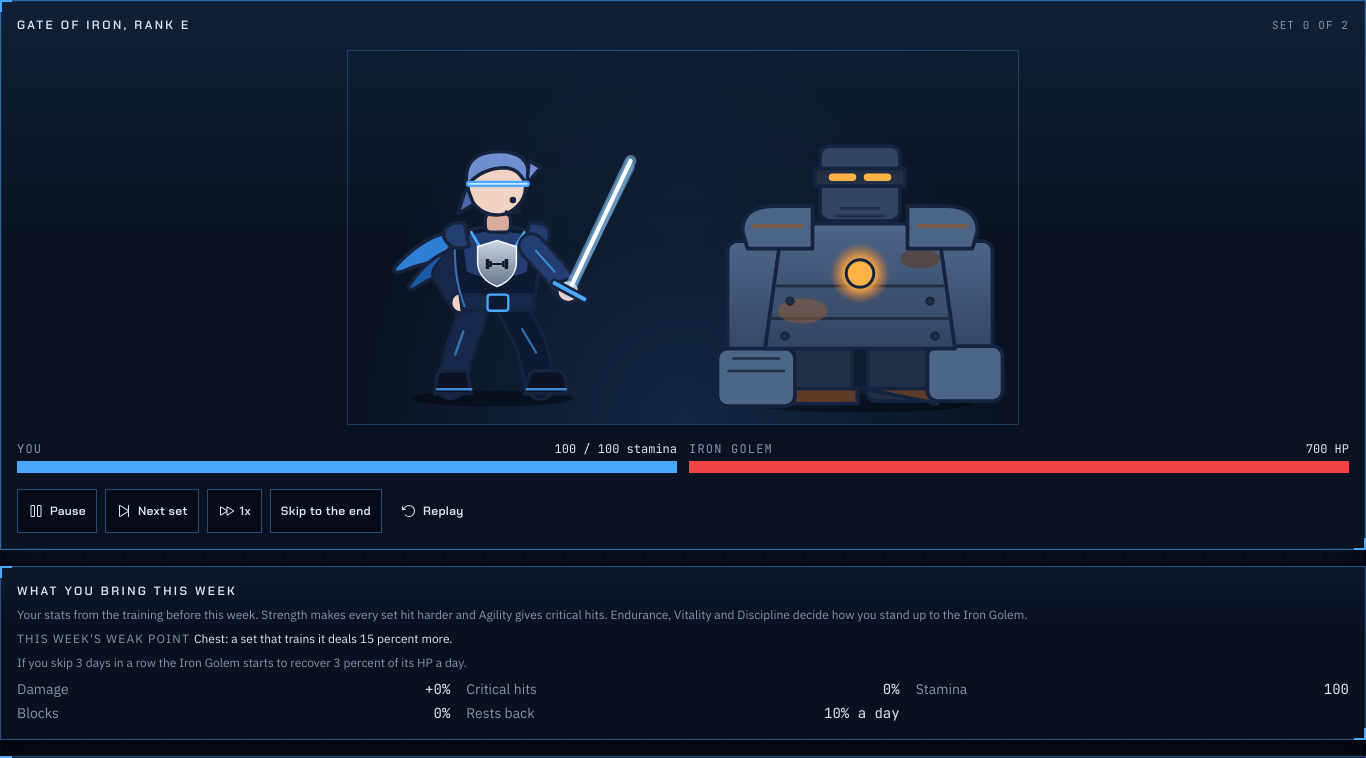
Scenario: BattleStage › skips to the end and says how it ended
The image size is (1366, 758).
Click the button "Skip to the end" at (326, 510), box [270,488,382,532]
Wait 50 ms
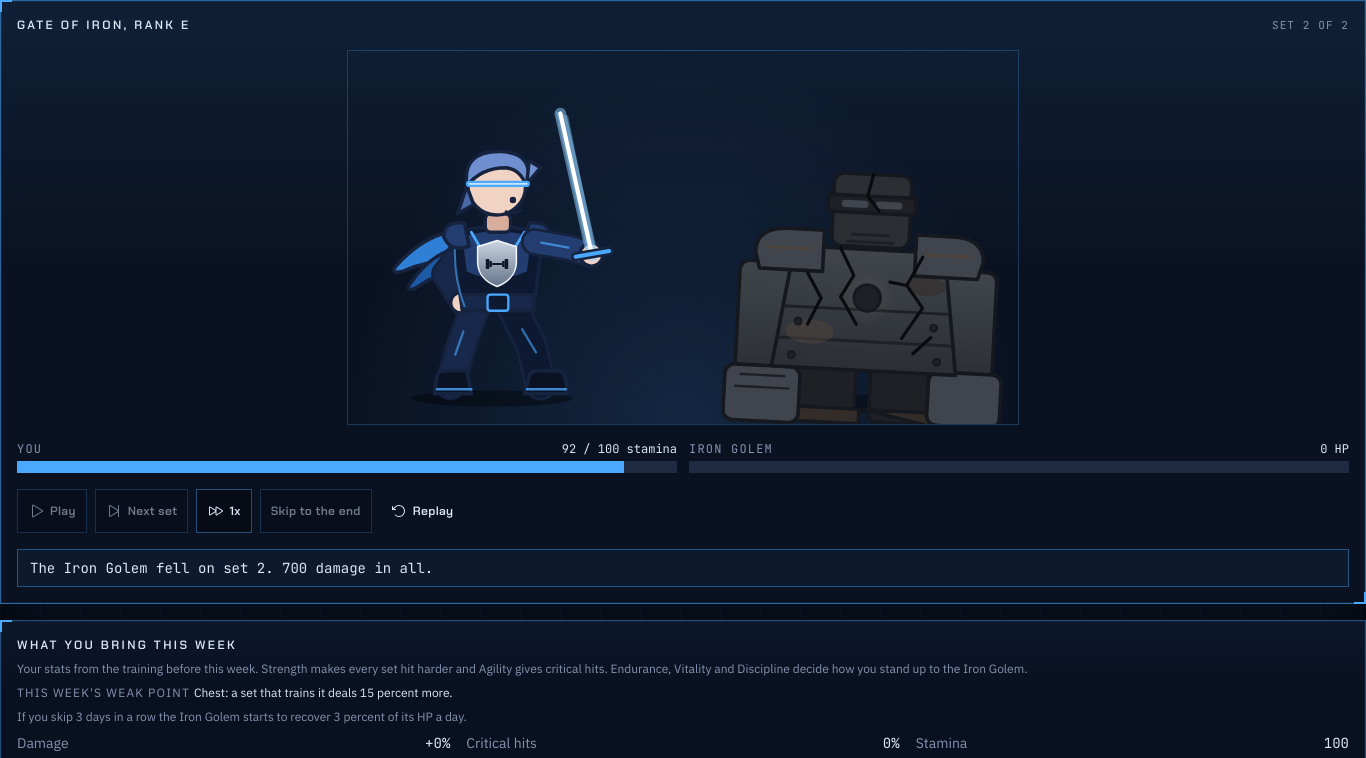
Check: the text "Set 2 of 2" is shown, box [1272,17,1349,34]
Check: the text "The Iron Golem fell on set 2. 700 damage in all." is shown, box [17,548,1349,586]
